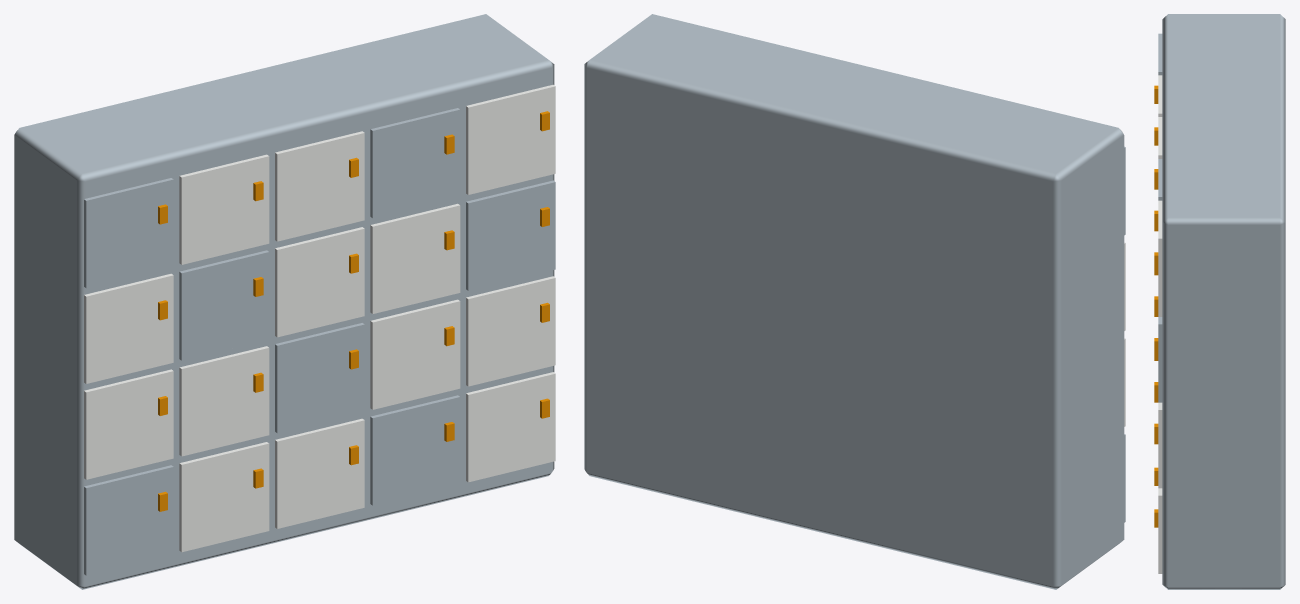
File: coin_lockers.glb
3 renders of one model, left to right at view 1: azimuth 30°, elevation 25°; view 2: azimuth 150°, elevation 25°; view 3: azimuth 270°, elevation 25°, orthographic. The views are drawn at different scales.
Visible parts, largest first — view 1: coin_lockers; view 2: coin_lockers; view 3: coin_lockers.
Part boxes in pixels (bbox=[...]): coin_lockers: bbox=[14, 14, 555, 589]; coin_lockers: bbox=[584, 14, 1125, 589]; coin_lockers: bbox=[1154, 14, 1285, 589].
Bounding box in the file's own units: 2.4 × 2 × 0.64.
